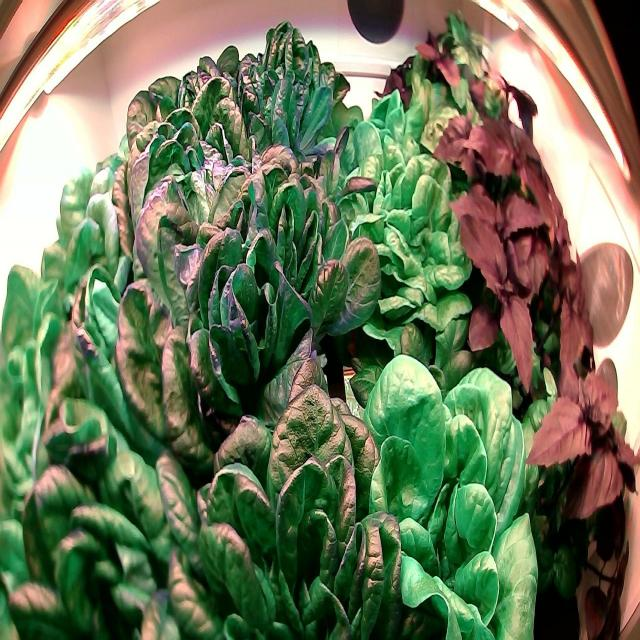Ready: (112, 128, 393, 462), (2, 285, 235, 640), (156, 357, 411, 636), (96, 149, 281, 478), (365, 354, 538, 638), (0, 262, 79, 640), (114, 24, 258, 225), (219, 15, 358, 194), (350, 169, 470, 360), (335, 72, 467, 220), (42, 150, 120, 290)
